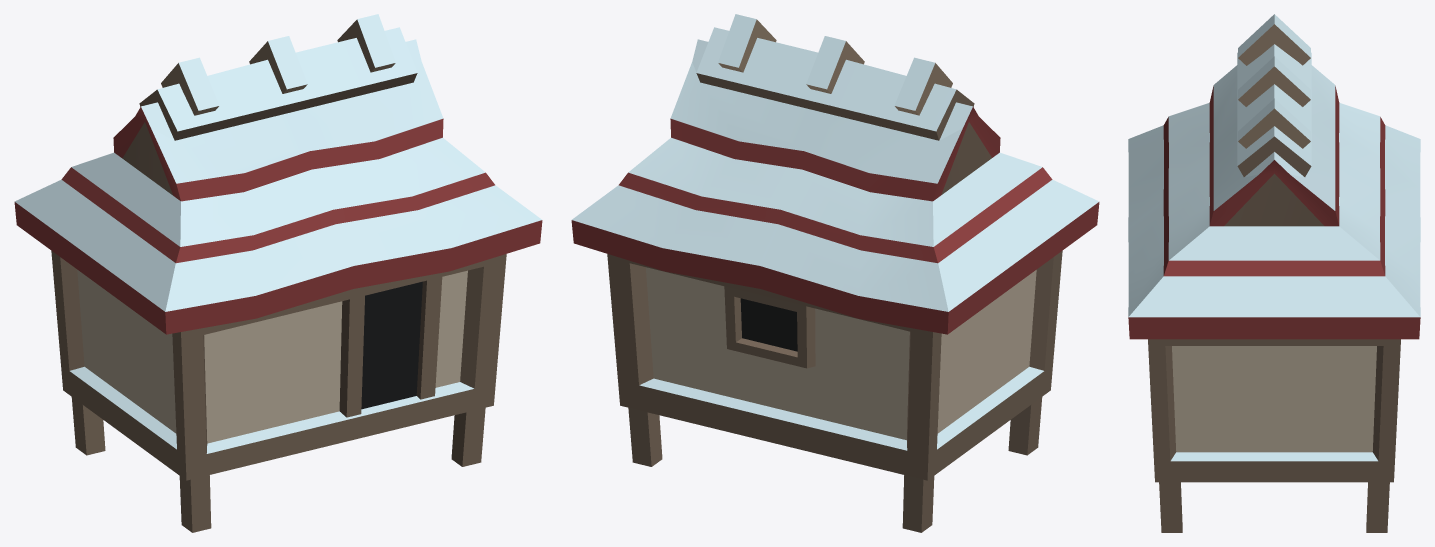
File: SM_Bld_Samurai_House_01_Snow.fbx
3 renders of one model, left to right at view 1: azimuth 30°, elevation 25°; view 2: azimuth 150°, elevation 25°; view 3: azimuth 270°, elevation 25°, orthographic. The views are drawn at different scales.
Parts seen in each view (by area): view 1: SM_Bld_Samurai_House_01_Snow; view 2: SM_Bld_Samurai_House_01_Snow; view 3: SM_Bld_Samurai_House_01_Snow.
Boxes of the visible parts, left/top/right/bottom form: SM_Bld_Samurai_House_01_Snow: left=14, top=14, right=542, bottom=532; SM_Bld_Samurai_House_01_Snow: left=571, top=14, right=1099, bottom=532; SM_Bld_Samurai_House_01_Snow: left=1128, top=14, right=1420, bottom=532.
Bounding box in the file's own units: 106 × 112 × 73.49.
1 material, 1 textured.
